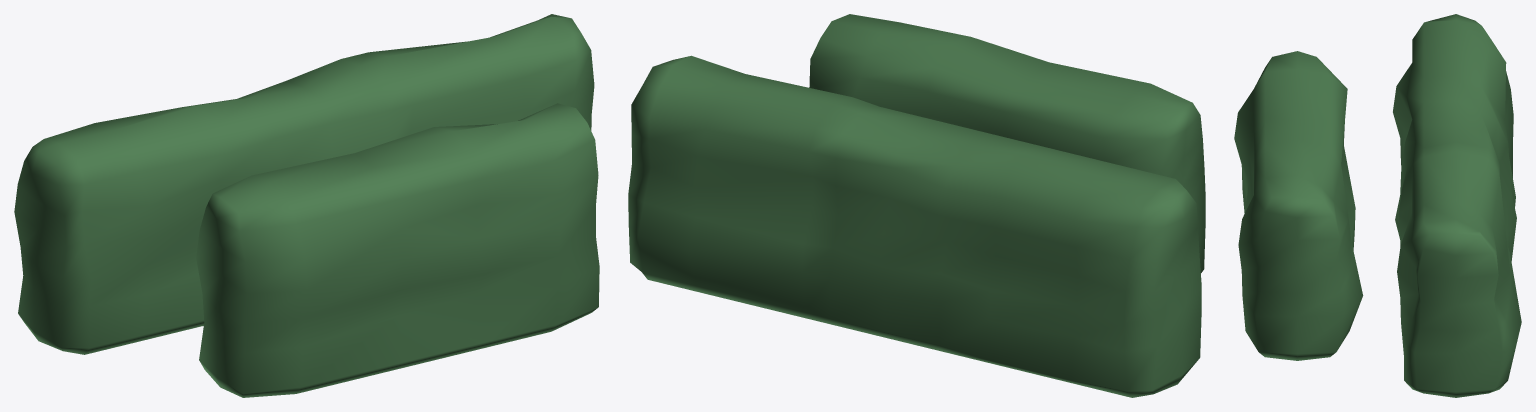
Rendered from AlisonBrannon_LowPolyHedges2.fbx.
3 views of the same model, side by side, from view 1: azimuth 30°, elevation 25°; view 2: azimuth 150°, elevation 25°; view 3: azimuth 270°, elevation 25° (orthographic). The views are drawn at different scales.
Visible parts, largest first — view 1: ShortHedge, LongHedge; view 2: LongHedge, ShortHedge; view 3: LongHedge, ShortHedge.
Part boxes in pixels (x1,y1,x2,y2): ShortHedge: (196,103,599,397); LongHedge: (14,14,594,354); LongHedge: (628,55,1201,397); ShortHedge: (809,14,1205,272); LongHedge: (1393,14,1521,397); ShortHedge: (1234,51,1363,360).
Size of the model in its own units: 15 by 5.32 by 8.
